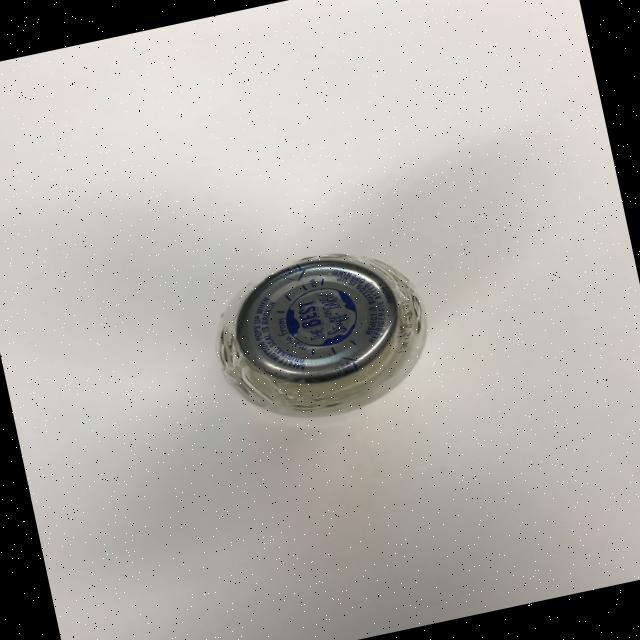metal: (199, 233, 443, 437)
